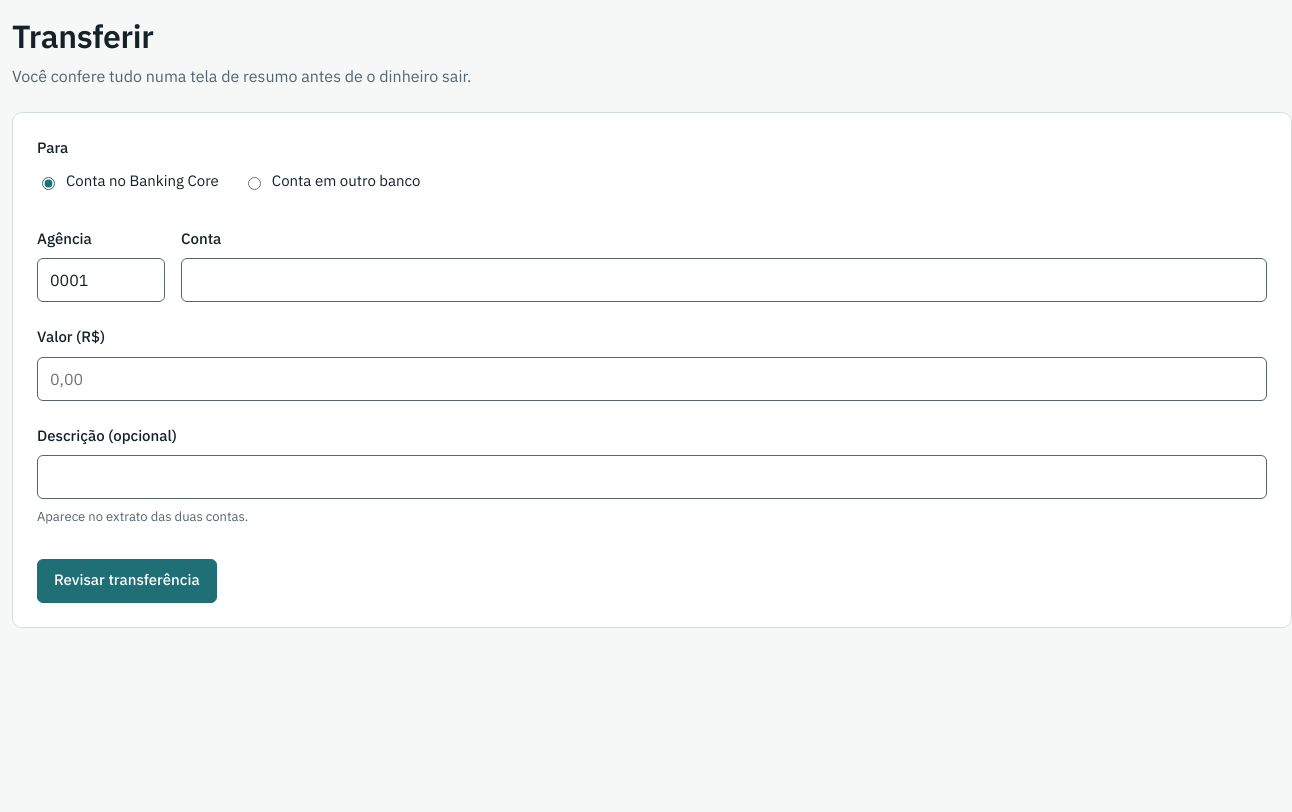
Scenario: Transferir › resumo mostra o titular mascarado e o valor antes de enviar
Type "2" into the field labelled "Conta" at coordinates (724, 280), box [181,258,1267,302]
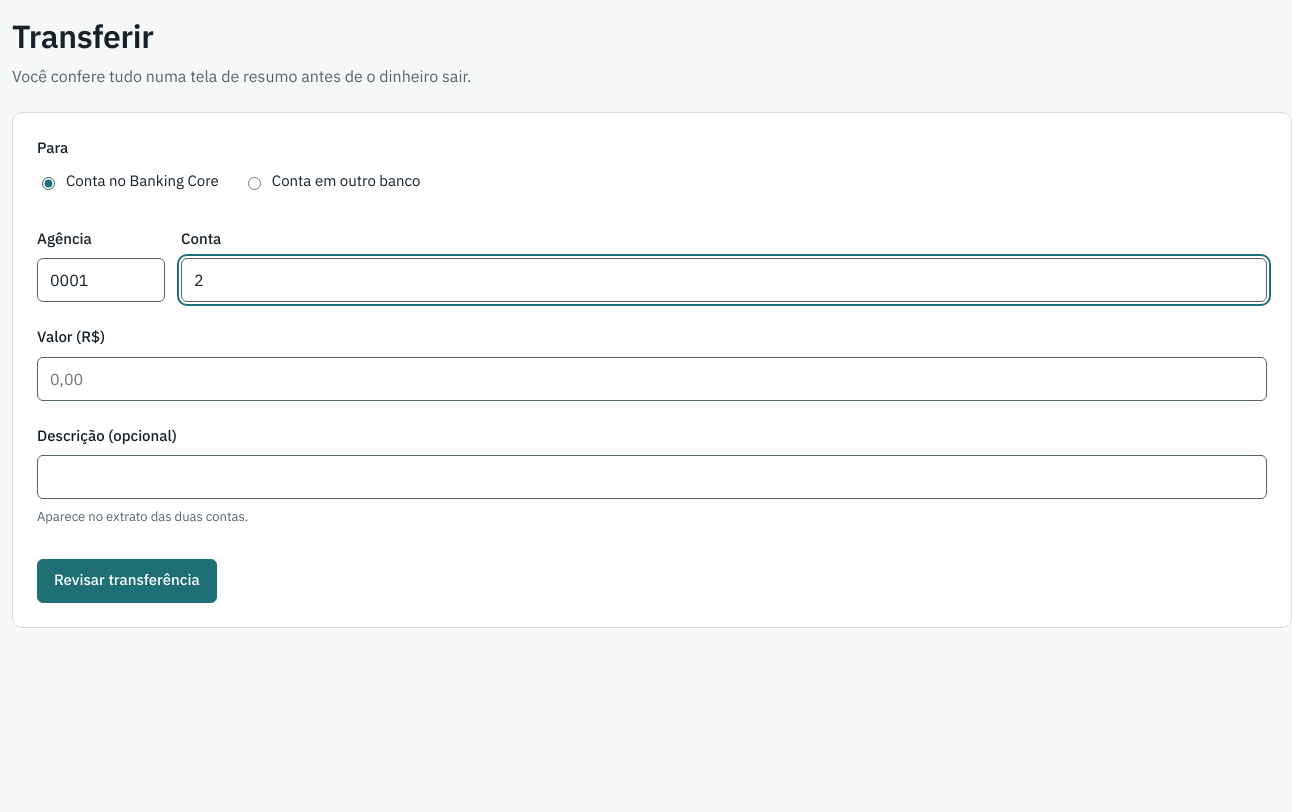
Type "1.234,50" into the field labelled "Valor (R$)" at coordinates (652, 378), box [37,356,1267,400]
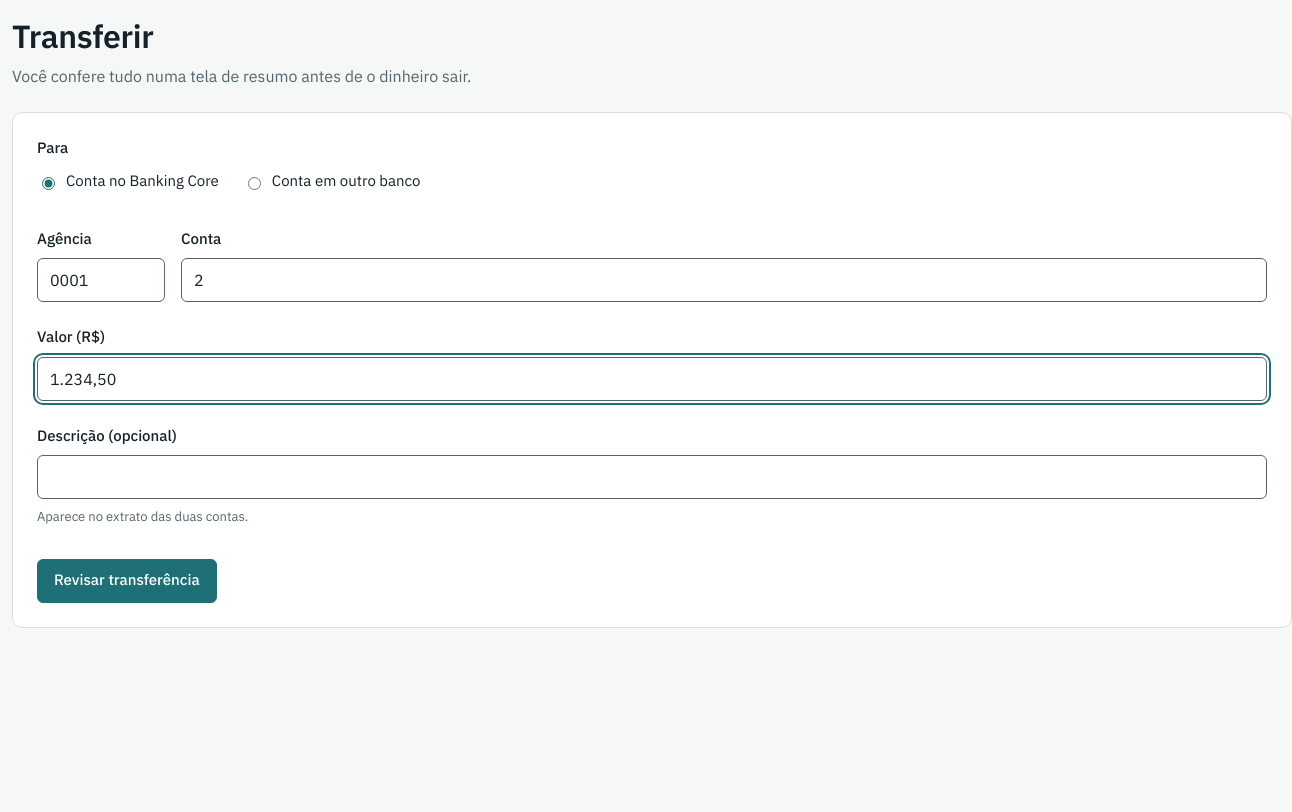
Click the button "Revisar transferência" at coordinates (127, 580), box [37,558,217,602]
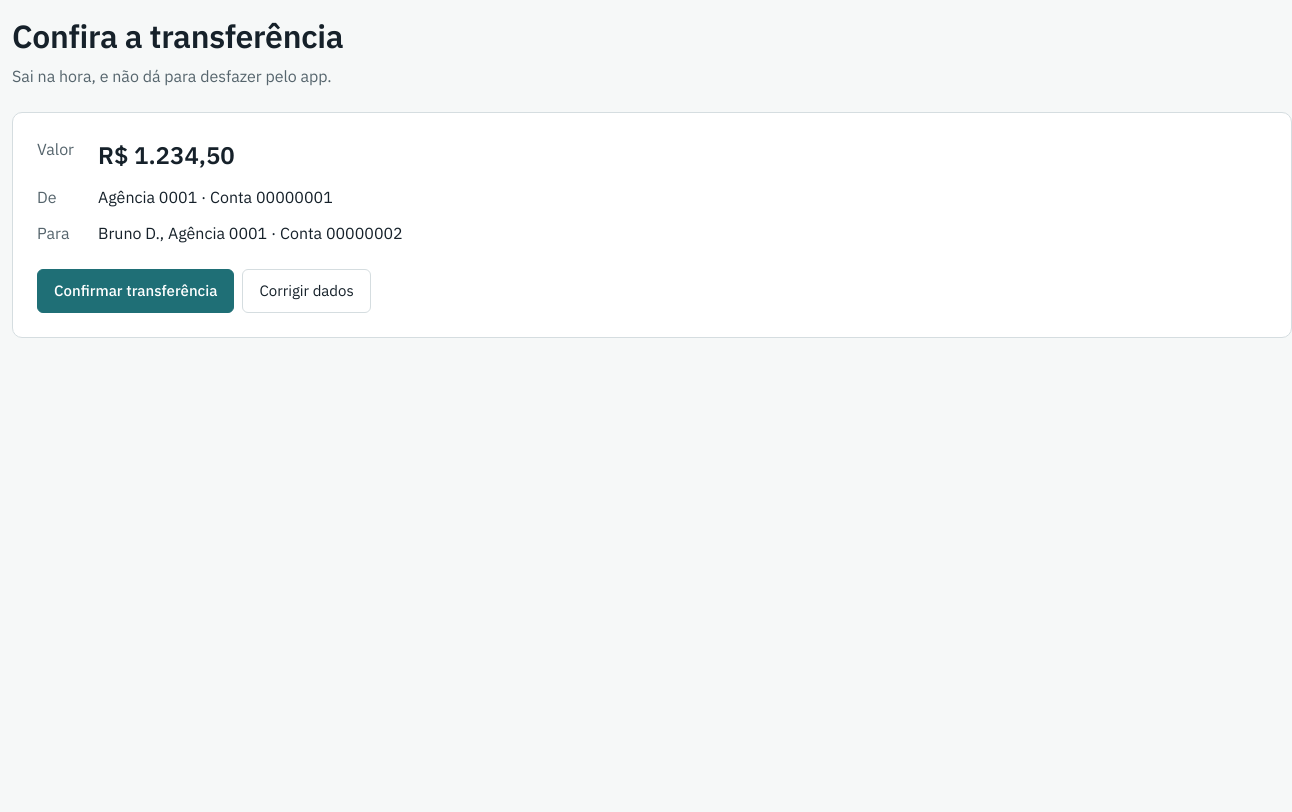
Expected: the heading "Confira a transferência" is shown, [12,15,343,57]
Expected: the text "R$ 1.234,50" is shown, [98,139,235,171]
Expected: the text "Bruno D., Agência 0001 · Conta 00000002" is shown, [98,223,403,243]
